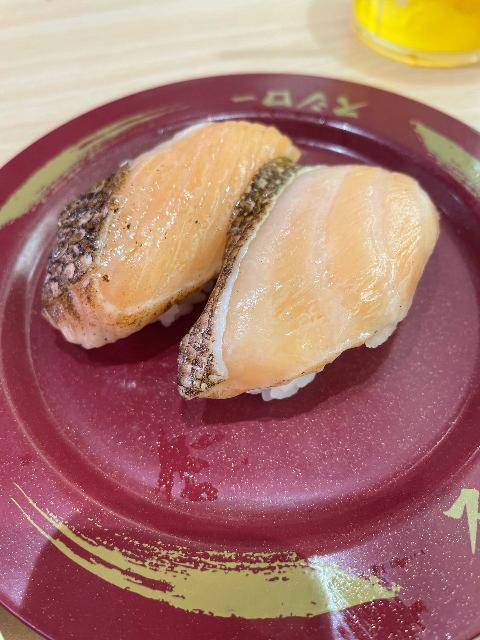janred: (0, 101, 480, 605)
